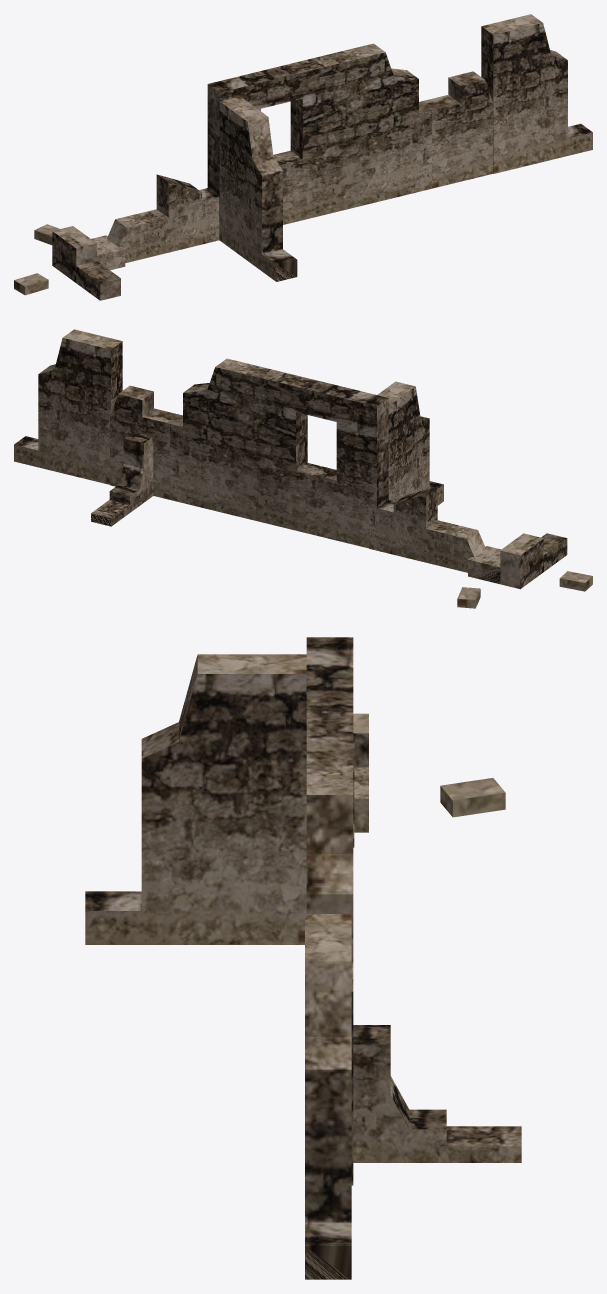
The model's file is Ruin.gltf.
The picture shows the model from 3 angles, top to bottom: view 1: azimuth 30°, elevation 25°; view 2: azimuth 150°, elevation 25°; view 3: azimuth 270°, elevation 25°; orthographic projection. The views are drawn at different scales.
Visible parts, largest first — view 1: Box01; view 2: Box01; view 3: Box01.
Boxes of the visible parts, x1,y1,x2,y2 form: Box01: (14,14,592,300); Box01: (14,329,592,608); Box01: (85,637,521,1279).
Bounding box in the file's own units: 17.63 × 4.32 × 5.93.
1 material, 1 textured.
